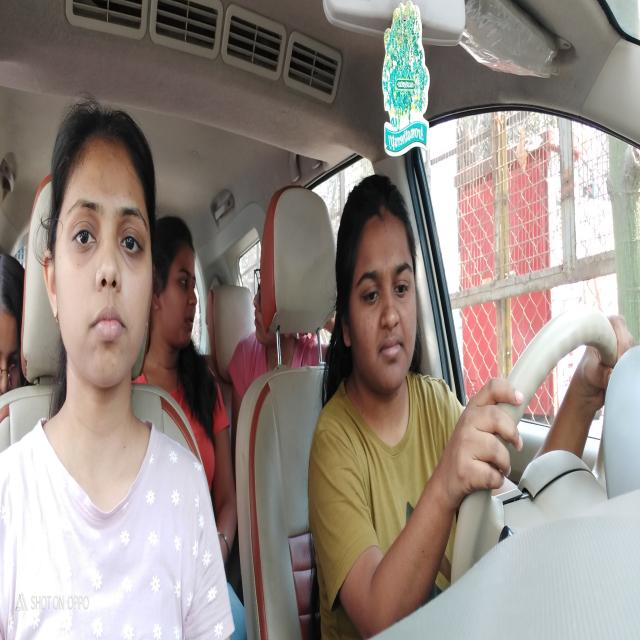person: (38, 93, 157, 412), (332, 168, 421, 398), (154, 206, 206, 361), (0, 241, 27, 407), (248, 248, 283, 358)
